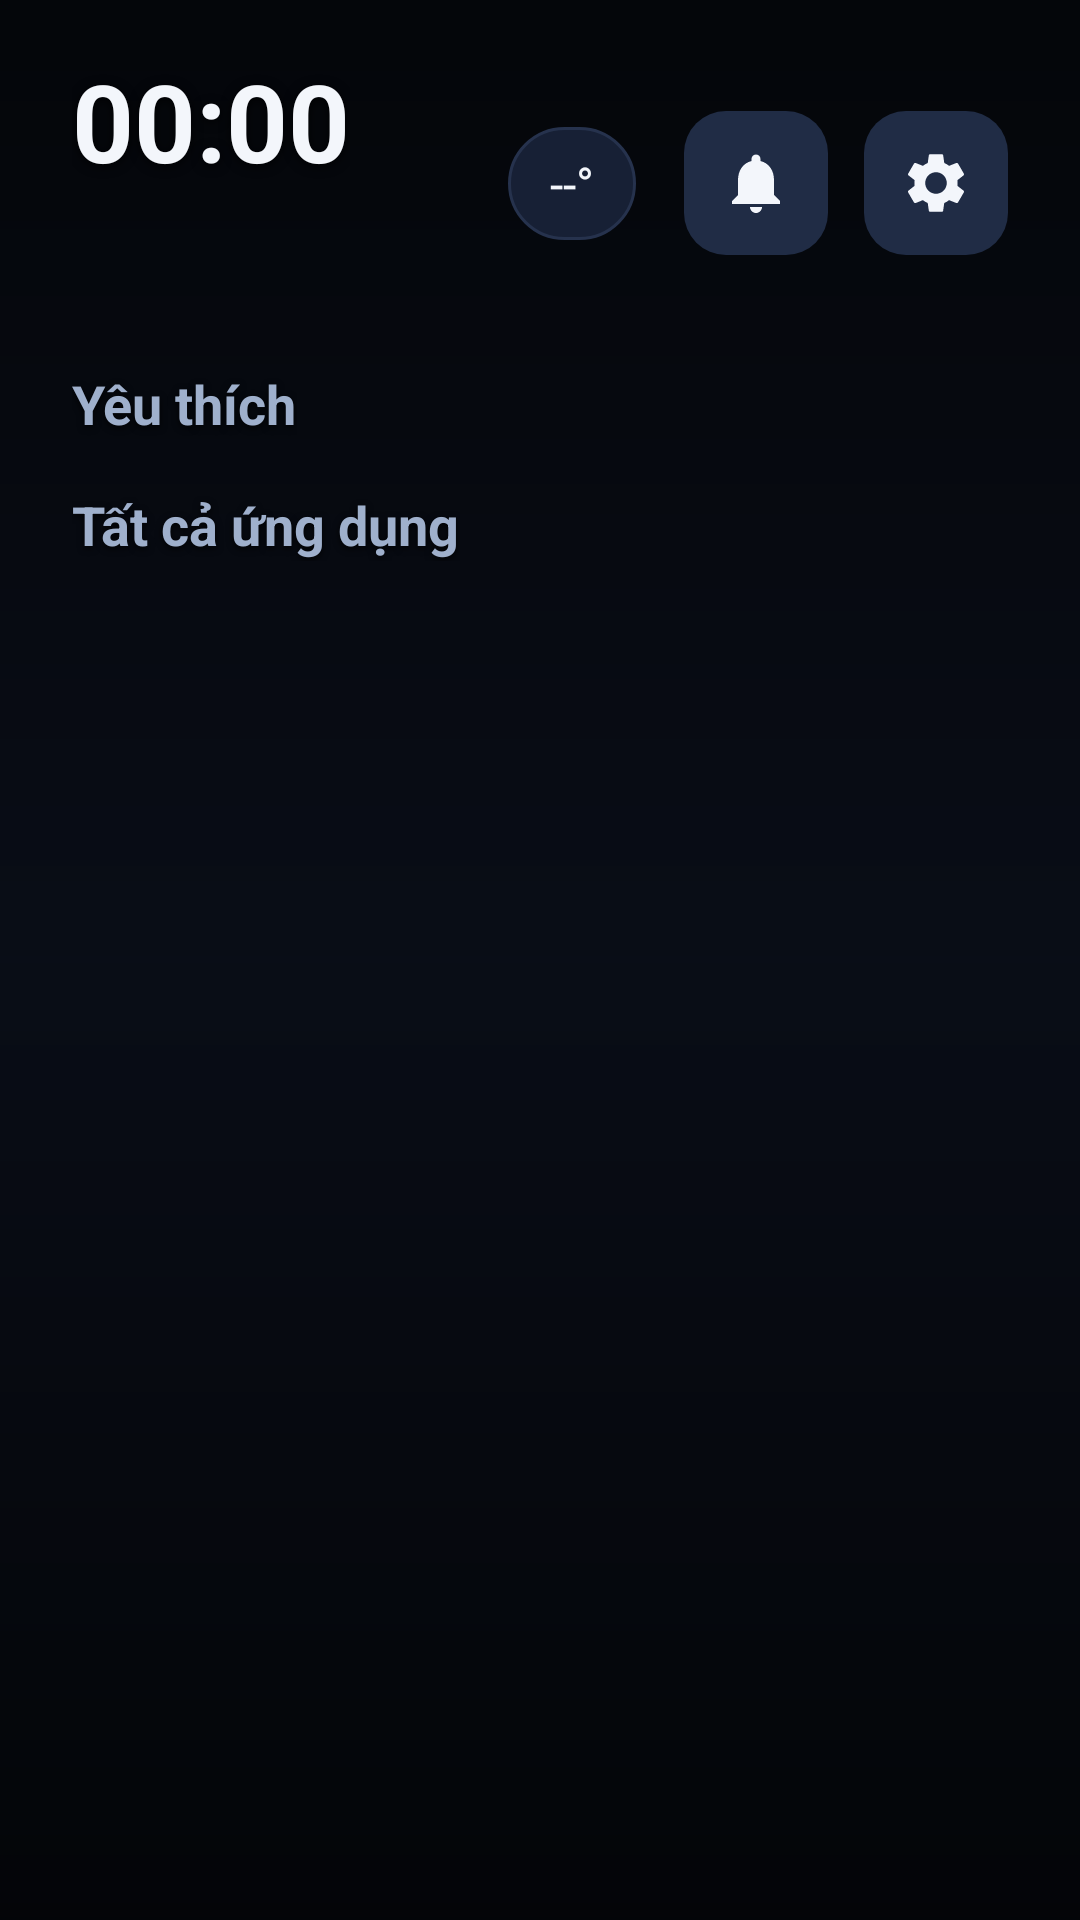

Icons on this 1080 x 1920 Android screen, each with the point to tap as [x,y]:
Cài đặt màn hình chính: [936,183]
Thông báo: [756,183]
